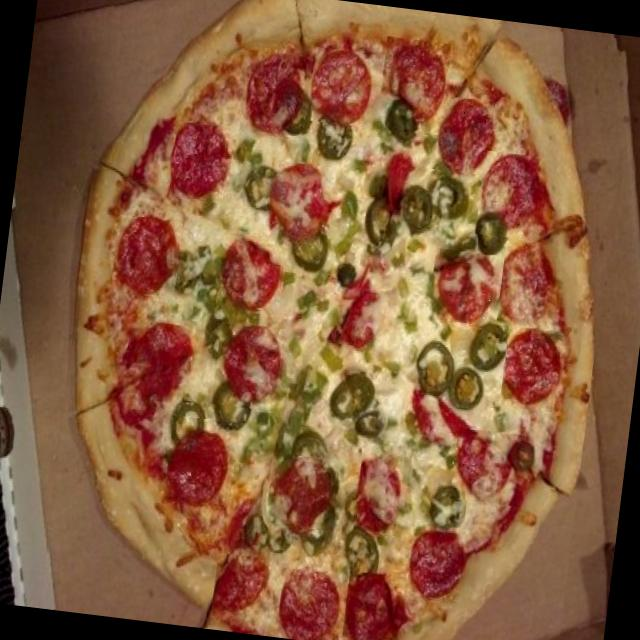pepperoni: (376, 36, 456, 137), (117, 318, 191, 408), (211, 321, 285, 411), (163, 415, 235, 507), (238, 49, 310, 138), (474, 150, 544, 240), (449, 426, 524, 506), (110, 214, 180, 298), (264, 452, 338, 531), (405, 522, 477, 603), (262, 160, 330, 245), (426, 248, 498, 328), (306, 46, 376, 128), (216, 232, 284, 312), (499, 325, 560, 412), (496, 240, 556, 326), (429, 95, 493, 175), (168, 121, 228, 203), (353, 451, 407, 536), (275, 567, 334, 640), (340, 570, 401, 640), (210, 552, 266, 616)
pizza: (74, 0, 591, 640)
